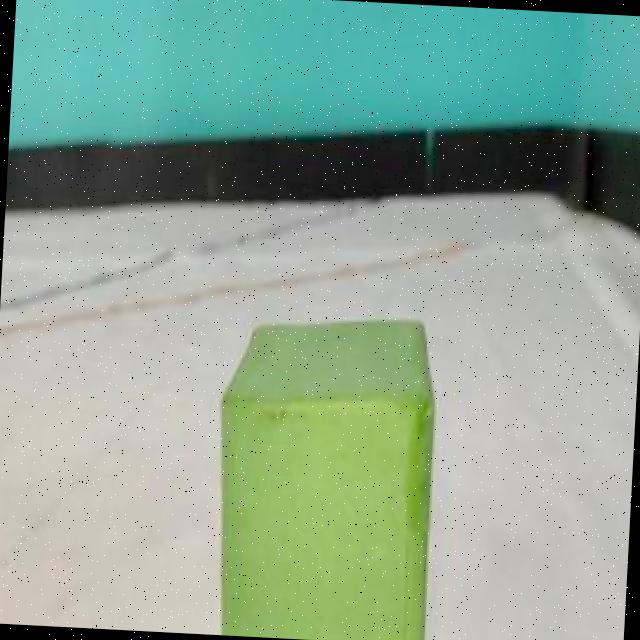greenbox: (211, 308, 448, 640)
